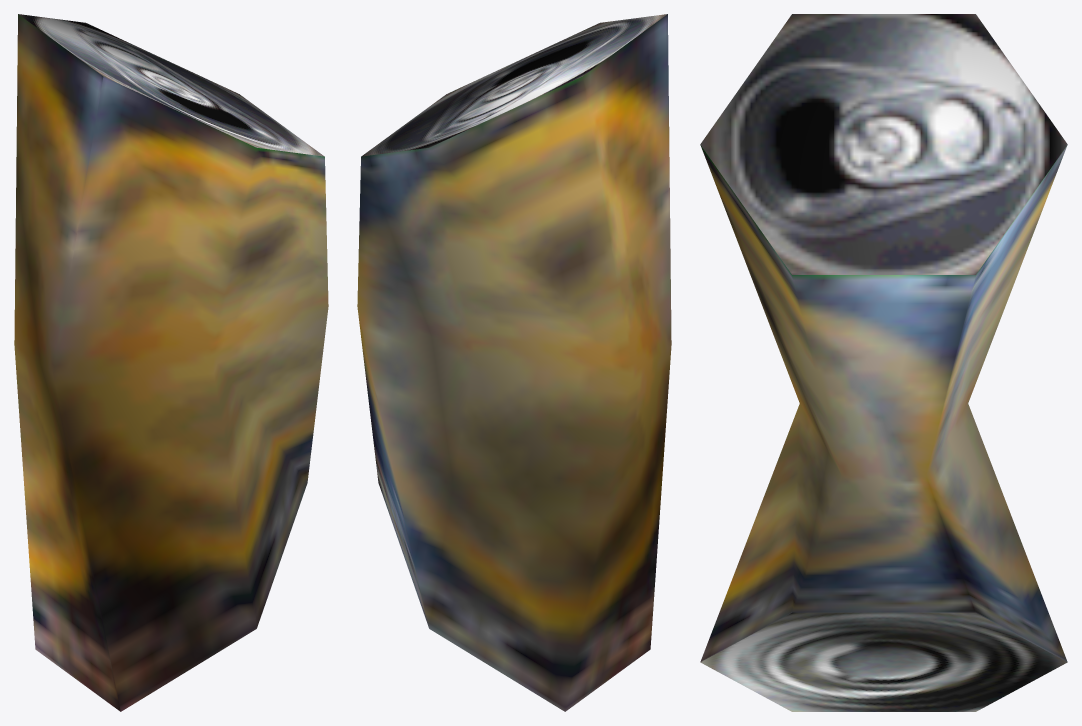
The model's file is can_6_crushed.glb.
The picture shows the model from 3 angles, left to right: view 1: azimuth 30°, elevation 25°; view 2: azimuth 150°, elevation 25°; view 3: azimuth 270°, elevation 25°; orthographic projection. The views are drawn at different scales.
Parts seen in each view (by area): view 1: Can_6_Crushed; view 2: Can_6_Crushed; view 3: Can_6_Crushed.
Part boxes in pixels (x1=…): Can_6_Crushed: x1=14, y1=14, x2=328, y2=711; Can_6_Crushed: x1=357, y1=14, x2=671, y2=711; Can_6_Crushed: x1=700, y1=14, x2=1067, y2=711.
Bounding box in the file's own units: 0.2101 × 0.4672 × 0.2259.
1 material, 1 textured.
